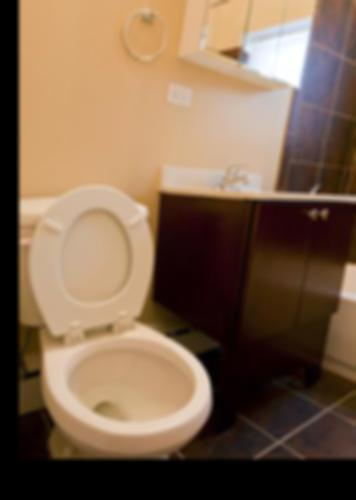Lavamanos: (169, 138, 356, 226)
Sanitario: (19, 166, 221, 458)
